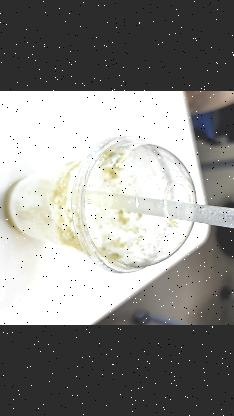Others: (0, 135, 206, 280), (73, 134, 197, 278), (79, 192, 234, 227)
